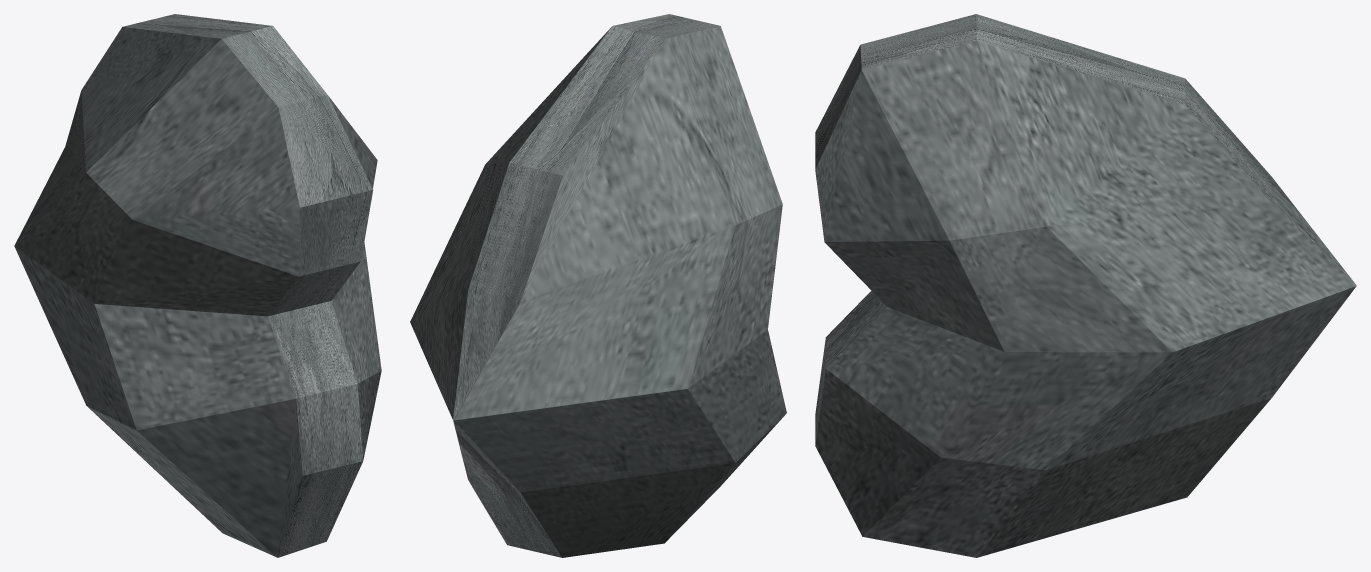
The model's file is healthSciencesPlanet.fbx.
3 views of the same model, side by side, from view 1: azimuth 30°, elevation 25°; view 2: azimuth 150°, elevation 25°; view 3: azimuth 270°, elevation 25° (orthographic). The views are drawn at different scales.
Visible parts, largest first — view 1: Cube; view 2: Cube; view 3: Cube.
Boxes of the visible parts, box(x1,y1,x2,y2) form: Cube: box(14, 14, 381, 557); Cube: box(410, 14, 786, 557); Cube: box(815, 14, 1356, 557).
Size of the model in its own units: 83.13 by 137 by 145.
1 material, 1 textured.
